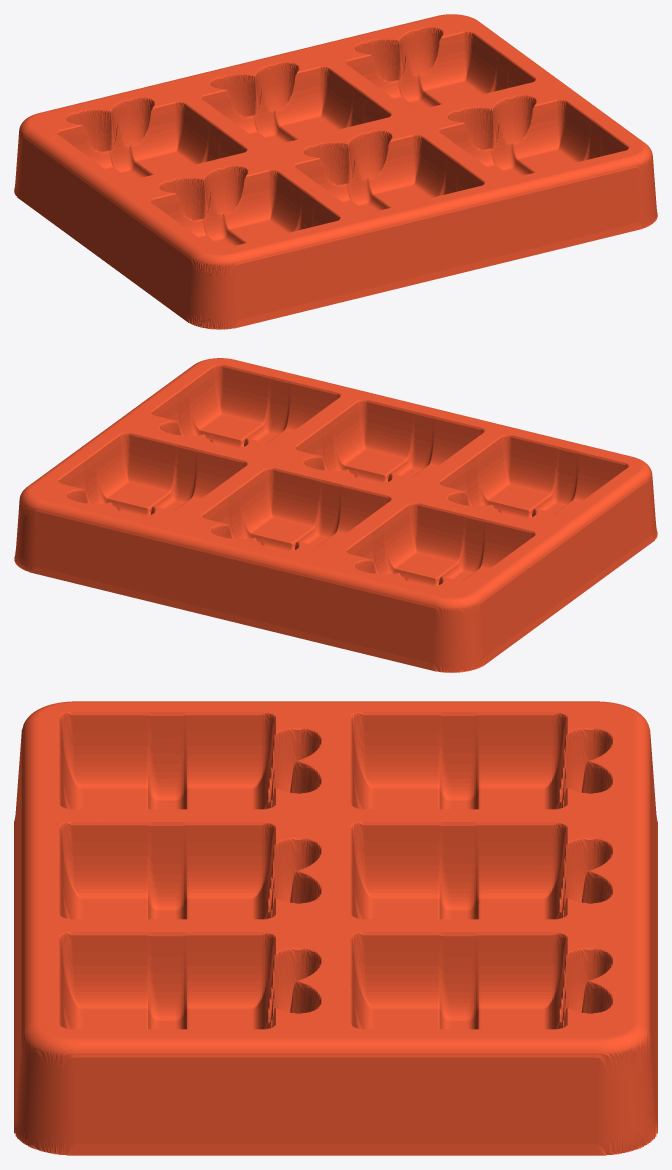
The model's file is mold.glb.
3 views of the same model, one above another, from view 1: azimuth 30°, elevation 25°; view 2: azimuth 150°, elevation 25°; view 3: azimuth 270°, elevation 25° (orthographic). The views are drawn at different scales.
Visible parts, largest first — view 1: geometry_0; view 2: geometry_0; view 3: geometry_0.
Boxes of the visible parts, box(x1,y1,x2,y2) form: geometry_0: box(14, 14, 657, 329); geometry_0: box(14, 358, 657, 672); geometry_0: box(14, 701, 657, 1155).
Size of the model in its own units: 0.1248 by 0.0175 by 0.0955.
